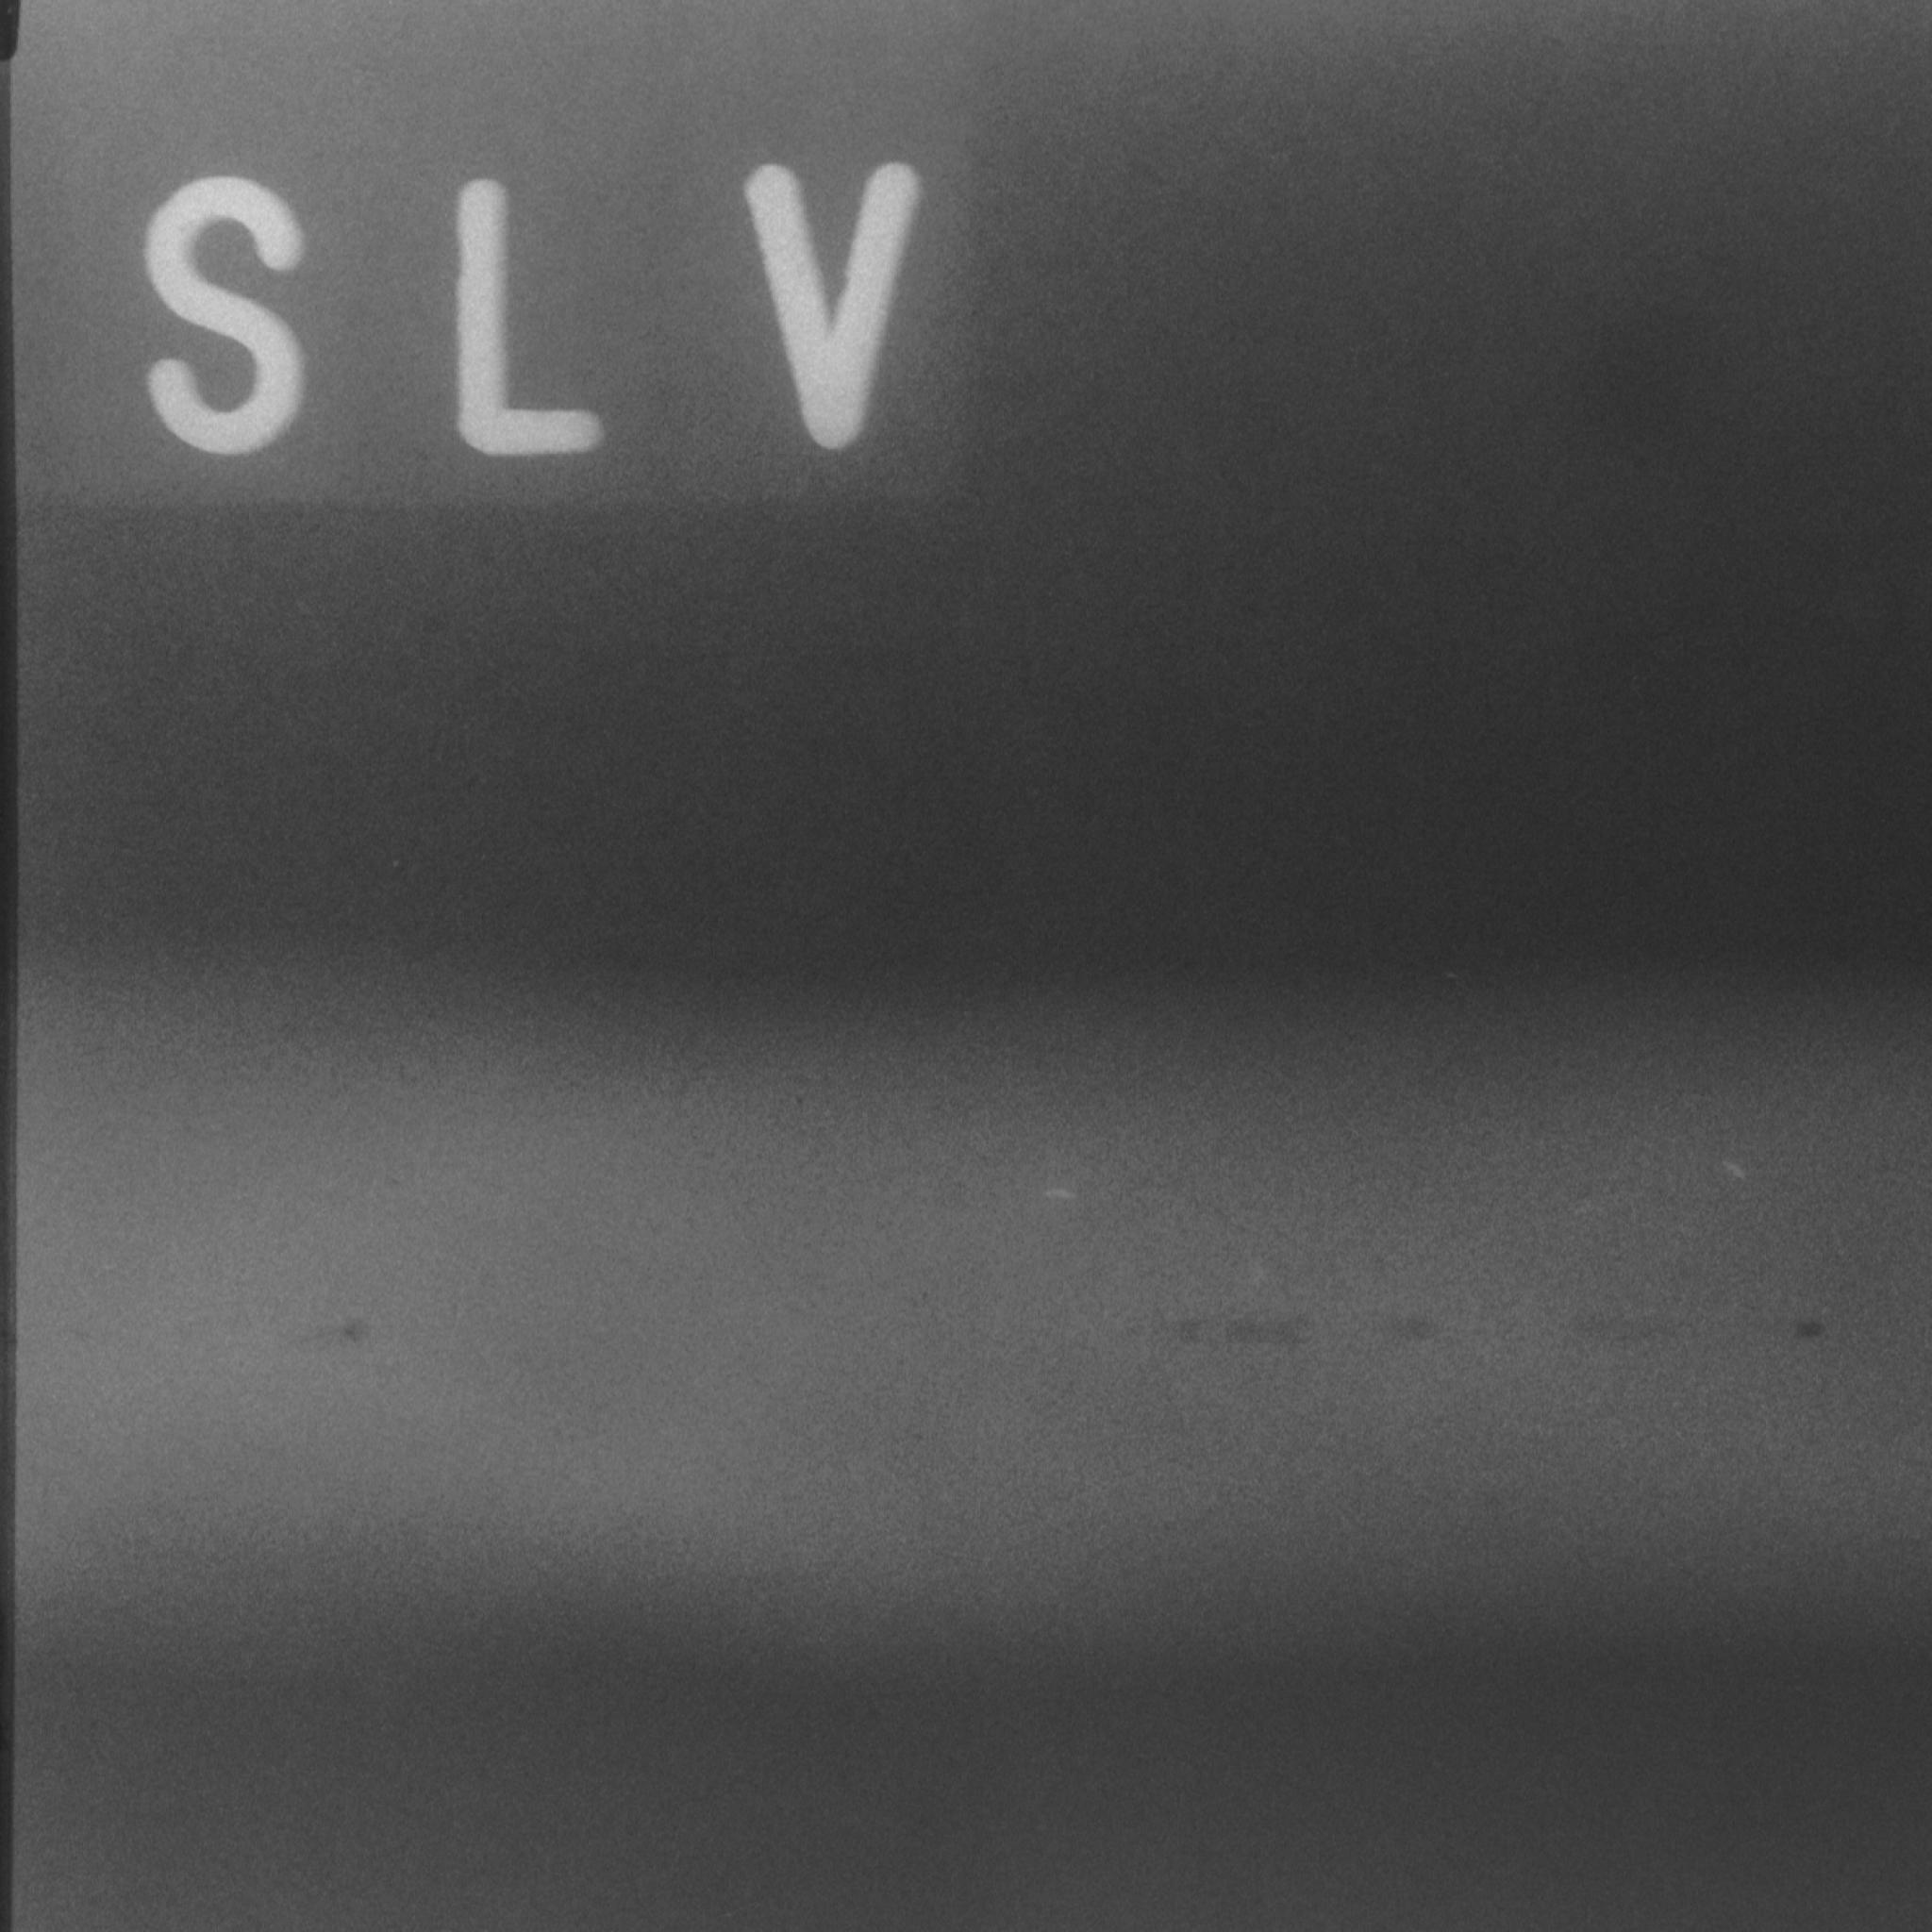FP: (0, 1210, 1932, 1537)
